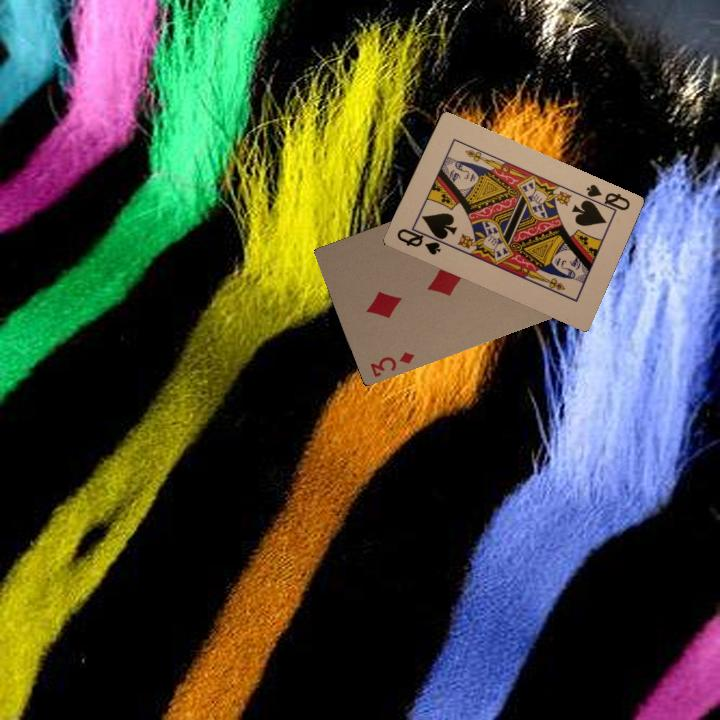3d: (366, 348, 417, 380)
Qs: (393, 222, 448, 258), (579, 180, 633, 216)
